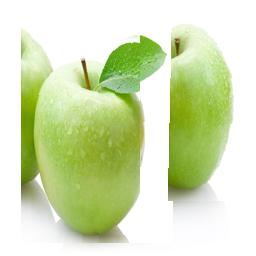Apple Fresh: (22, 26, 174, 243), (141, 10, 247, 202)
